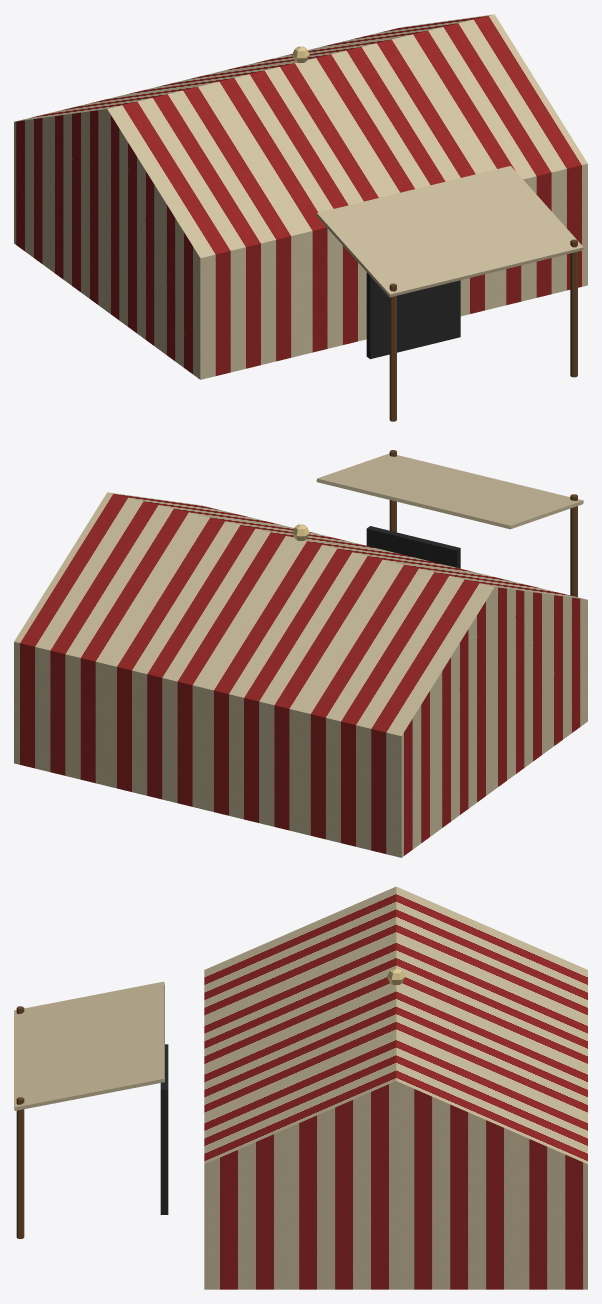
Rendered from tent_officer.glb.
3 renders of one model, top to bottom at view 1: azimuth 30°, elevation 25°; view 2: azimuth 150°, elevation 25°; view 3: azimuth 270°, elevation 25°, orthographic. The views are drawn at different scales.
Visible parts, largest first — view 1: Tent_Officer; view 2: Tent_Officer; view 3: Tent_Officer.
Boxes of the visible parts, left/top/right/bottom form: Tent_Officer: left=14, top=14, right=587, bottom=421; Tent_Officer: left=14, top=450, right=587, bottom=857; Tent_Officer: left=14, top=886, right=587, bottom=1289.
Bounding box in the file's own units: 6 × 3.22 × 7.48.
Materials: 4 (2 with a texture image).
